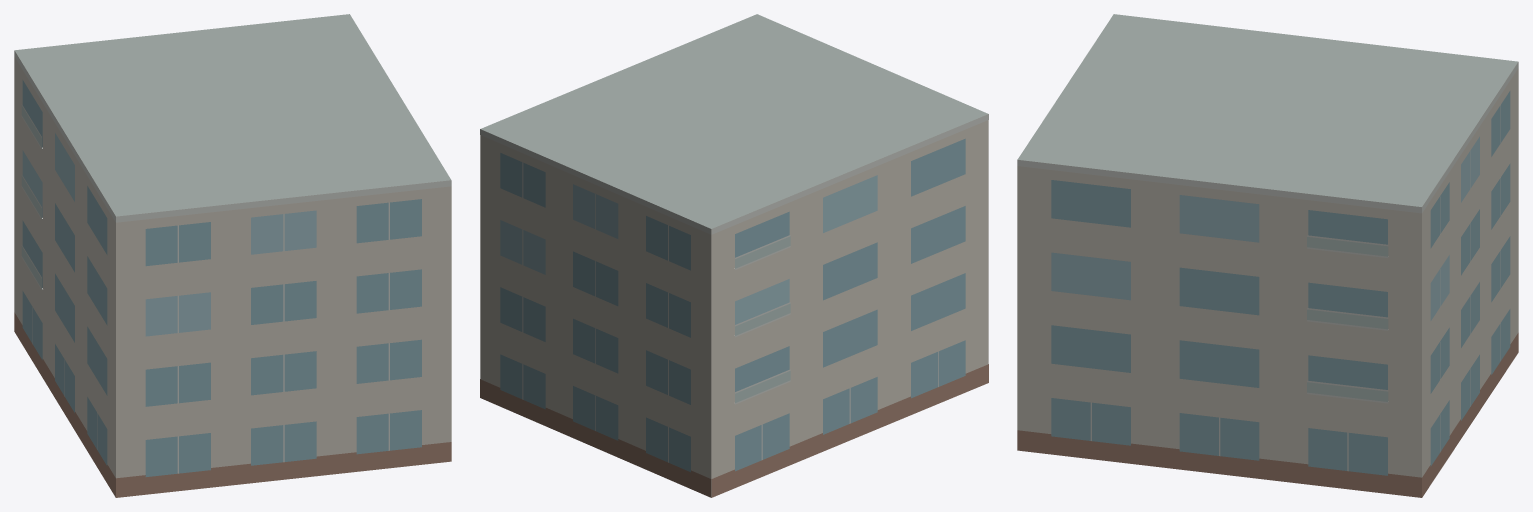
The model's file is survey-upis-32800113.glb.
3 views of the same model, side by side, from view 1: azimuth 30°, elevation 25°; view 2: azimuth 150°, elevation 25°; view 3: azimuth 270°, elevation 25° (orthographic). The views are drawn at different scales.
Visible parts, largest first — view 1: survey-upis-32800113.tmp; view 2: survey-upis-32800113.tmp; view 3: survey-upis-32800113.tmp.
Part boxes in pixels (x1=…): survey-upis-32800113.tmp: x1=14, y1=14, x2=451, y2=497; survey-upis-32800113.tmp: x1=480, y1=14, x2=988, y2=497; survey-upis-32800113.tmp: x1=1017, y1=14, x2=1518, y2=497.
Size of the model in its own units: 15.97 by 11.2 by 17.51.
